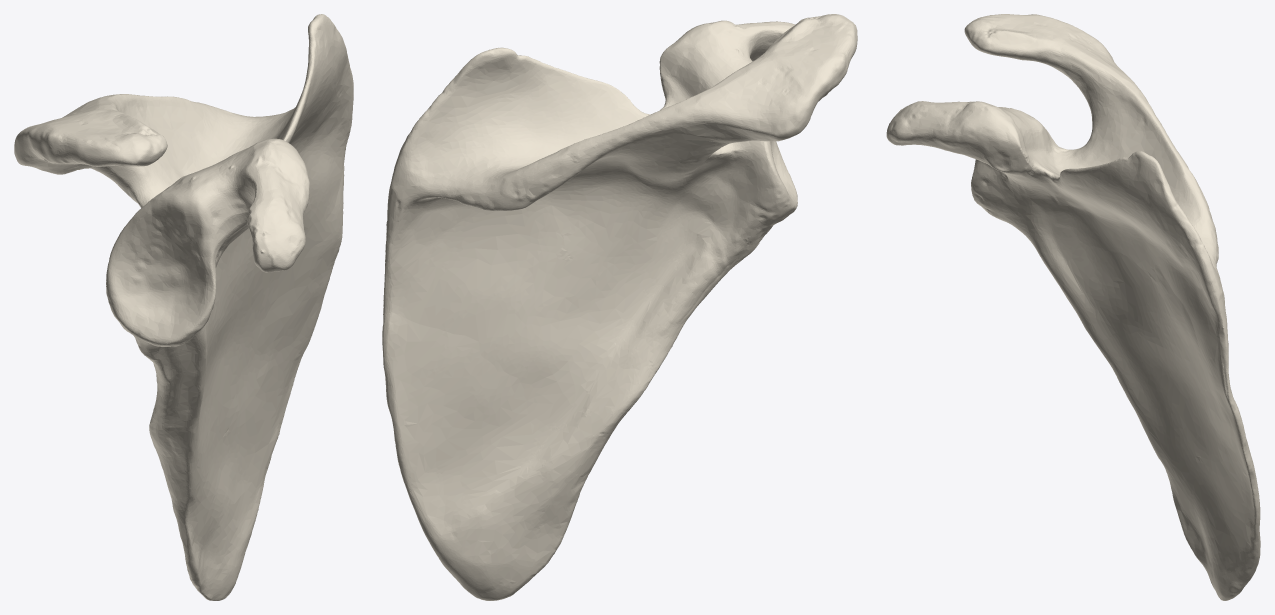
The model's file is scapula_right.glb.
3 renders of one model, left to right at view 1: azimuth 30°, elevation 25°; view 2: azimuth 150°, elevation 25°; view 3: azimuth 270°, elevation 25°, orthographic. The views are drawn at different scales.
Size of the model in its own units: 0.1094 by 0.1583 by 0.1105.
